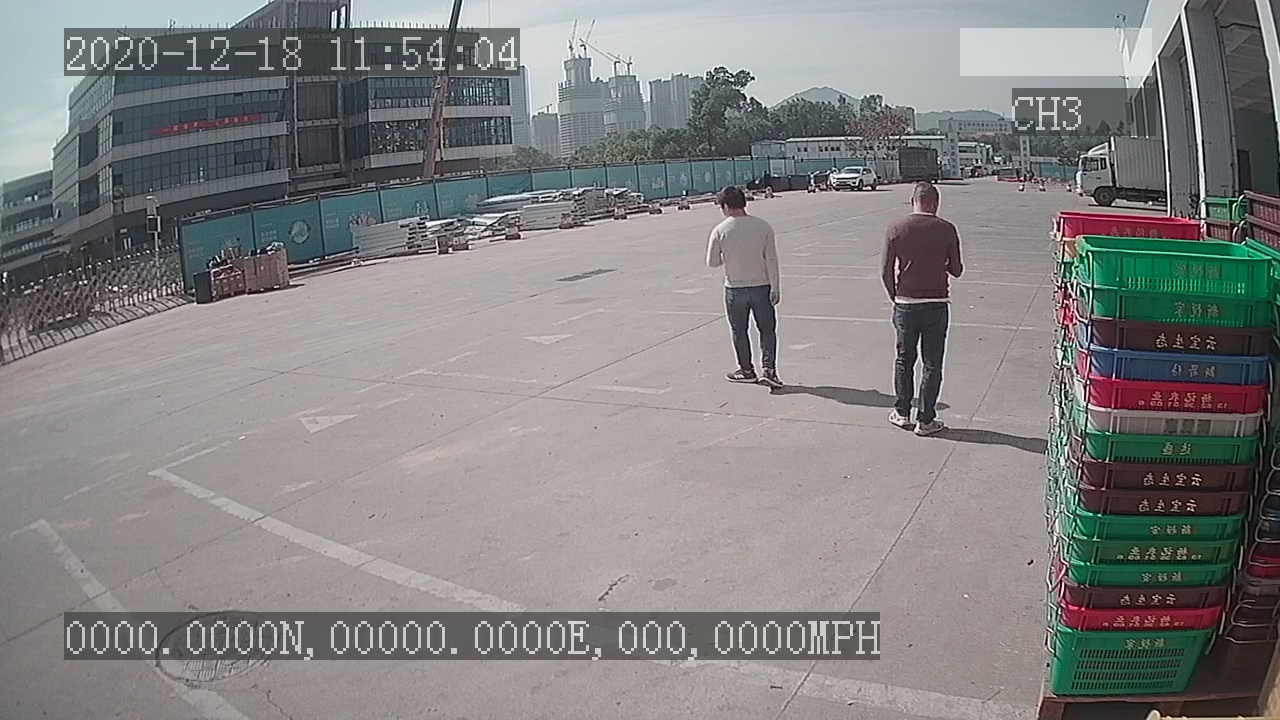person: (870, 179, 968, 442), (701, 185, 795, 395)
